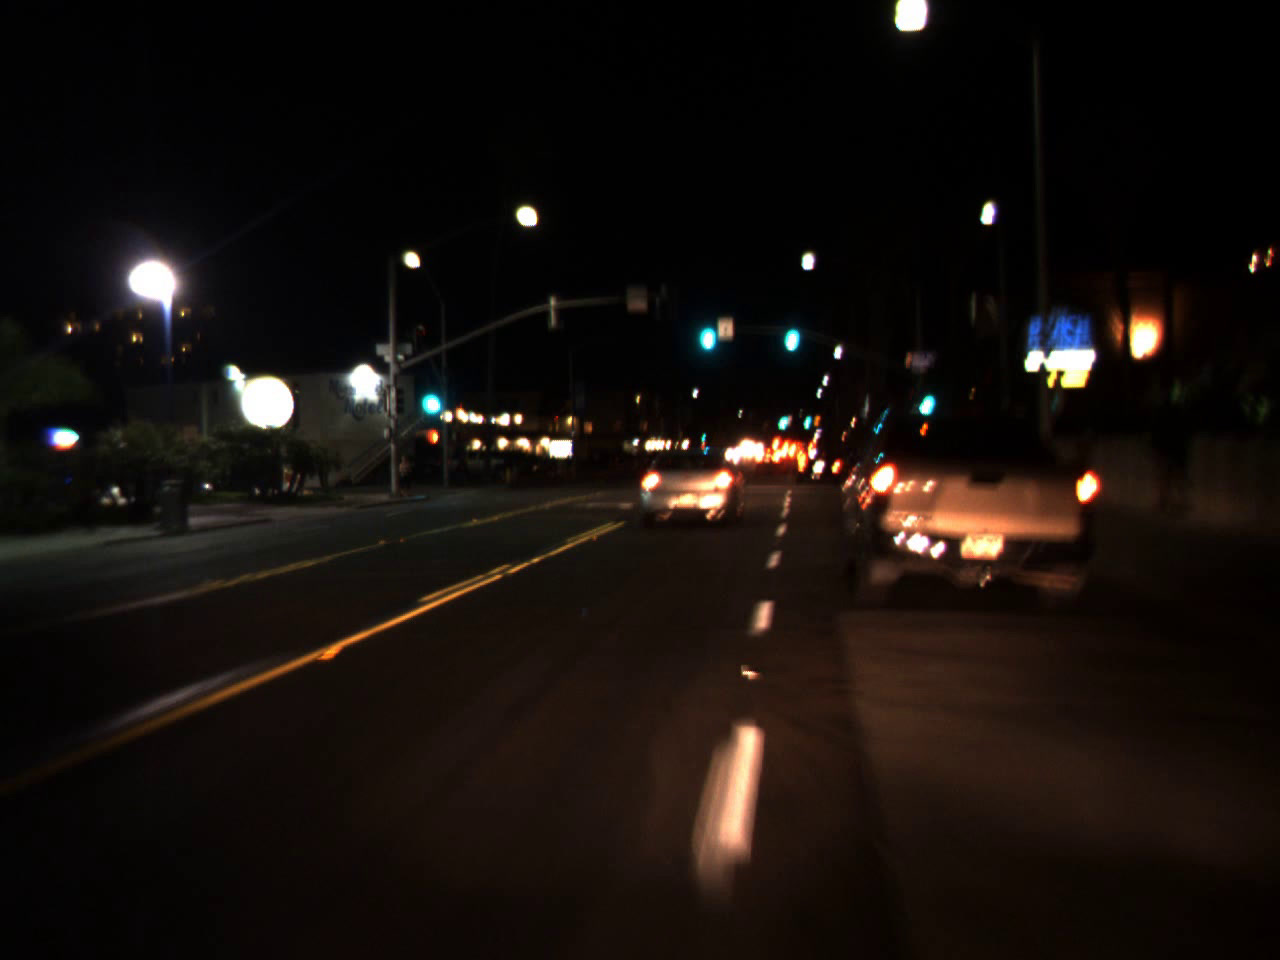go: (414, 366, 444, 423), (692, 299, 719, 359), (779, 301, 802, 358), (915, 374, 940, 422), (775, 404, 789, 431), (802, 403, 812, 433), (699, 427, 706, 442)
